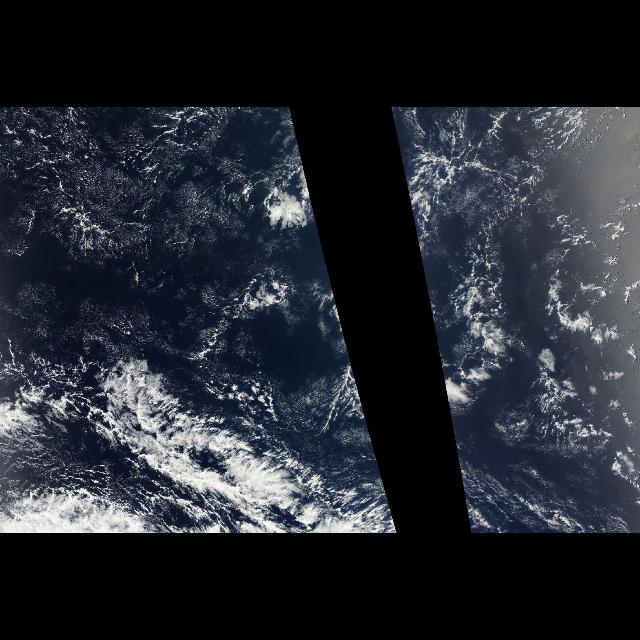Fish: (3, 347, 399, 533)
Sugar: (70, 159, 250, 297)
